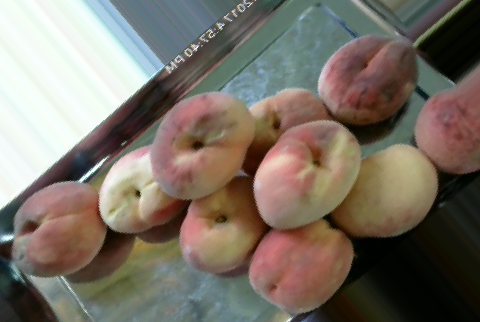Peach: (250, 119, 361, 230), (150, 92, 255, 199), (247, 217, 355, 317), (329, 142, 439, 239), (318, 34, 417, 125), (11, 180, 104, 276), (178, 176, 265, 274), (97, 144, 188, 235), (417, 63, 480, 175)
